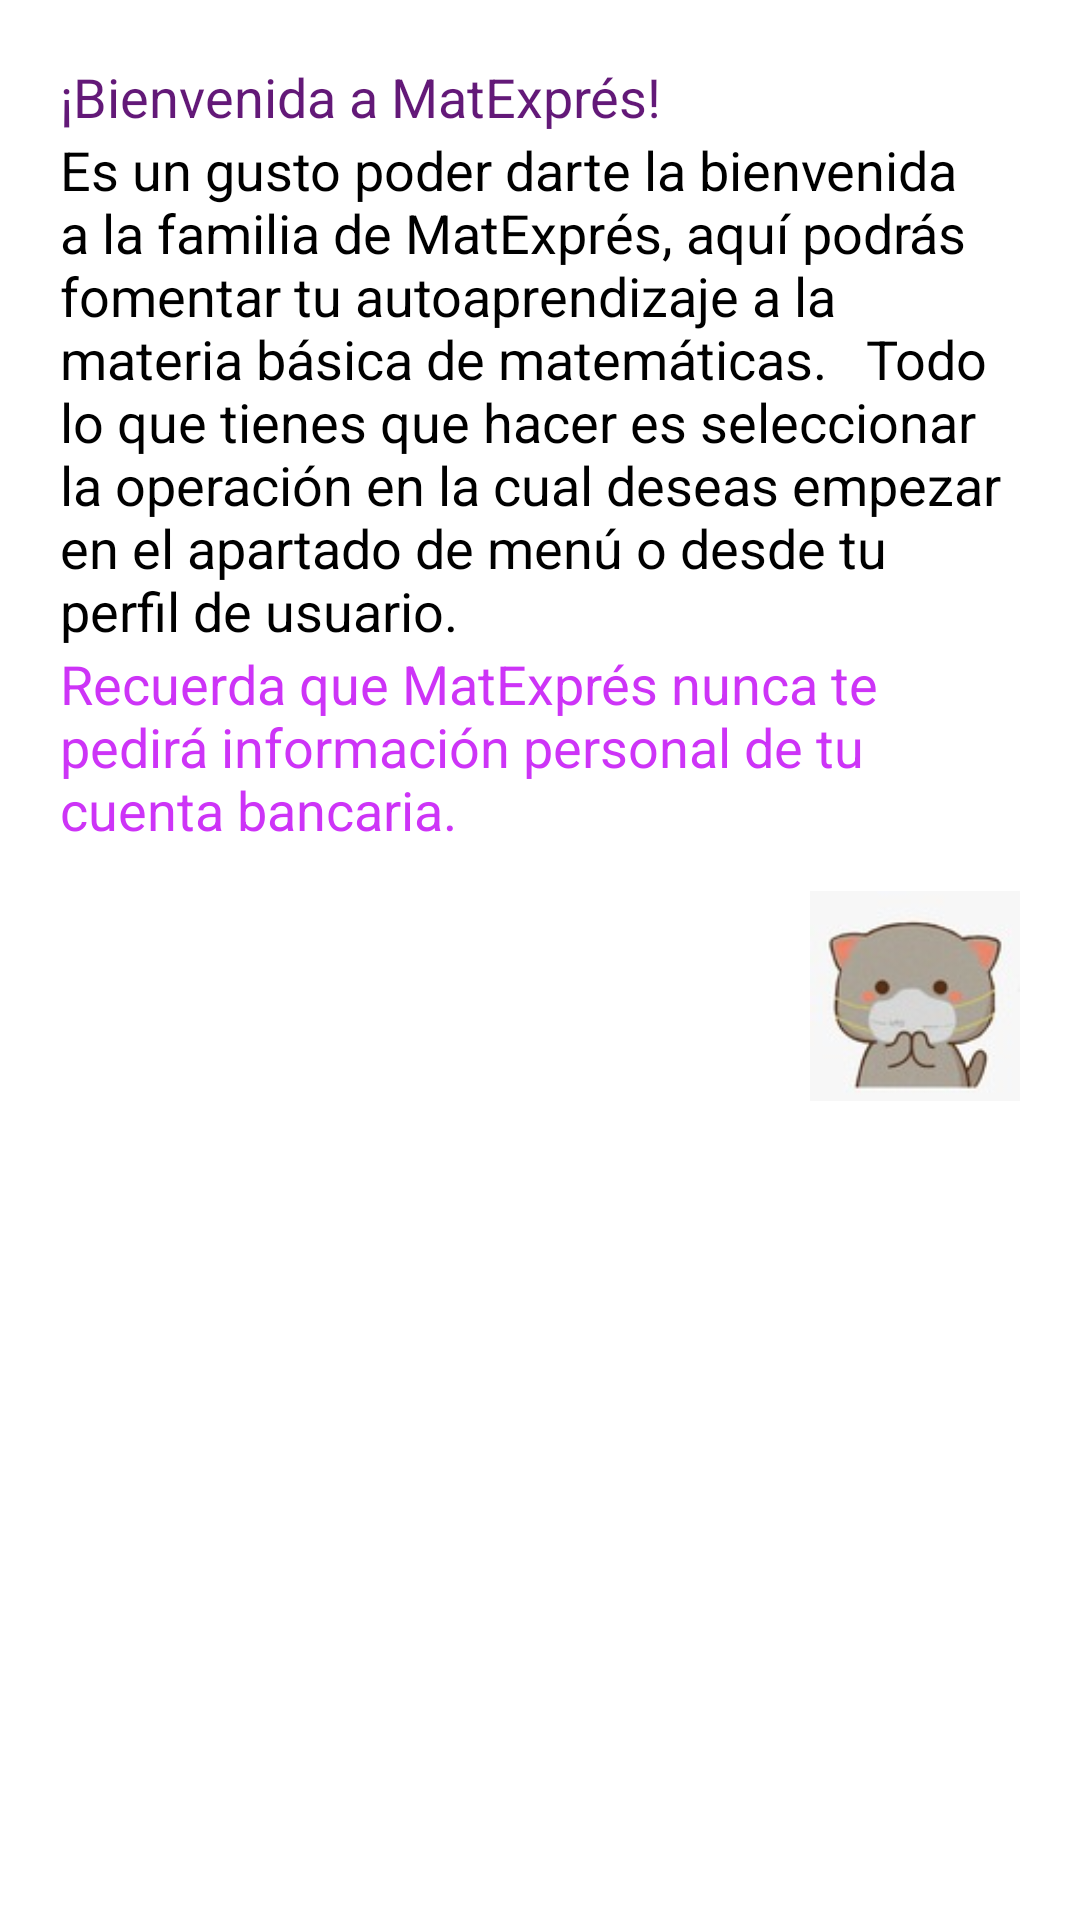

Icon bounding boxes for this 1080px x 1920px phone screenshot, format (x1, y1, x2, y2):
gato: (828, 920, 1002, 1089)
